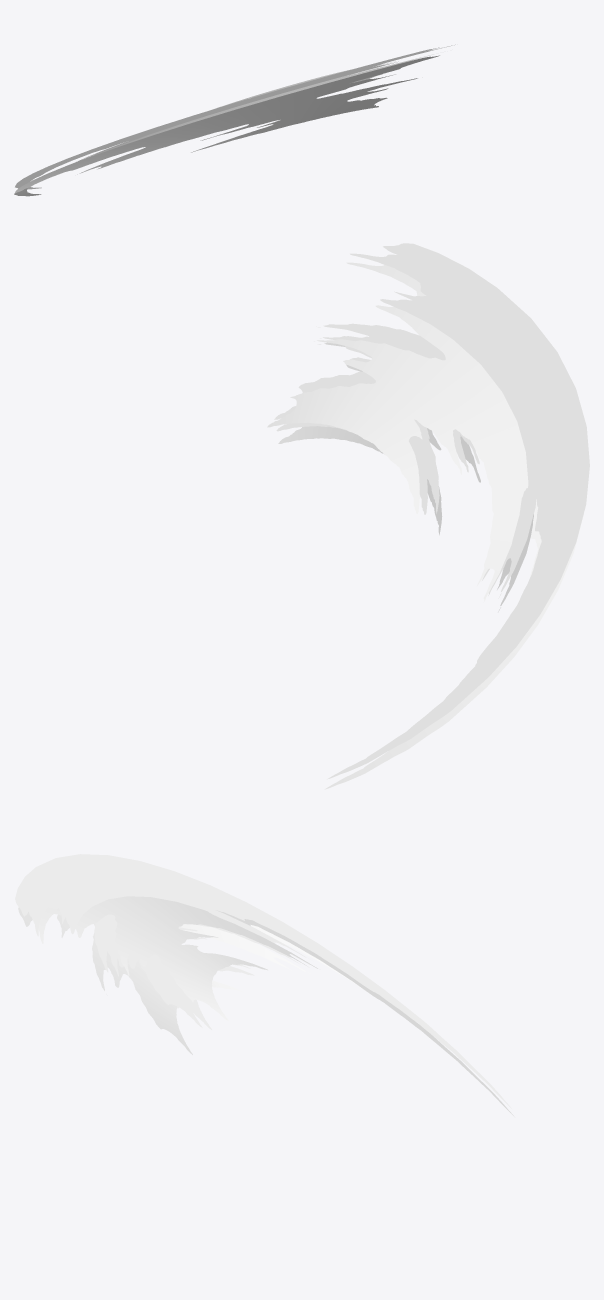
Rendered from fx_cookie0511_skill03.fbx.
The picture shows the model from 3 angles, top to bottom: view 1: azimuth 30°, elevation 25°; view 2: azimuth 150°, elevation 25°; view 3: azimuth 270°, elevation 25°; orthographic projection. The views are drawn at different scales.
Parts seen in each view (by area): view 1: L_scratch2_alpha, L_scratch1_add; view 2: L_scratch1_add, L_scratch2_alpha; view 3: L_scratch1_add, L_scratch2_alpha.
Part boxes in pixels (x1,y1,x2,y2): L_scratch2_alpha: (14,54,439,196); L_scratch1_add: (15,44,455,189); L_scratch1_add: (274,243,589,779); L_scratch2_alpha: (267,262,583,789); L_scratch1_add: (15,854,511,1108); L_scratch2_alpha: (18,896,514,1116).
Bounding box in the file's own units: 583 × 396 × 601.
